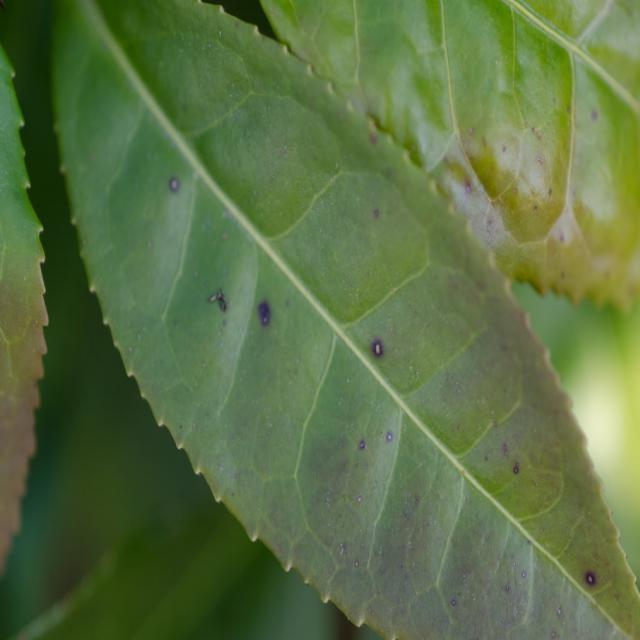Tea red scab: (481, 401, 530, 487), (237, 286, 290, 334), (354, 419, 395, 464), (361, 326, 392, 364), (161, 163, 185, 201), (582, 564, 599, 591), (528, 124, 545, 150), (591, 99, 604, 132), (549, 89, 560, 111)
